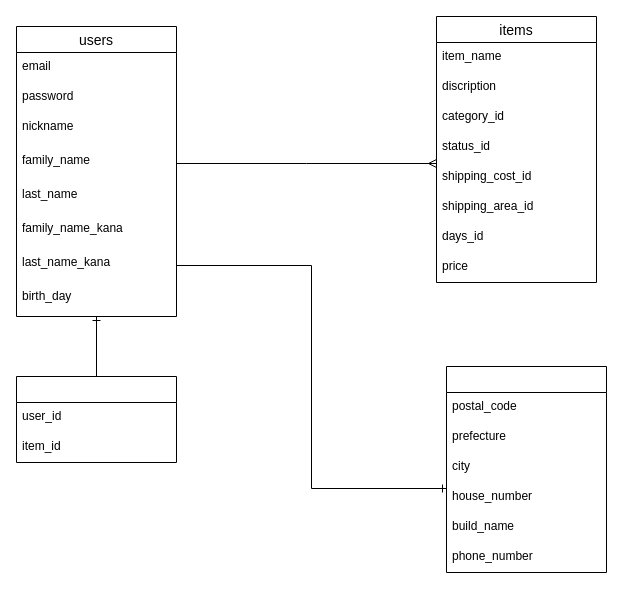
Some shapes in this 623 by 589 pixel diagram are drawn without their labels. Each missing label, with the box of its shape:
address: (446, 366, 606, 572)
purchase: (16, 376, 176, 462)
